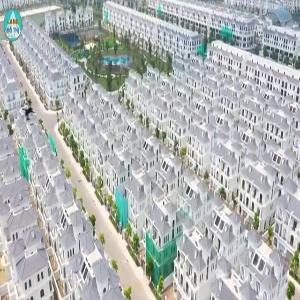drone: (7, 92, 49, 134)
